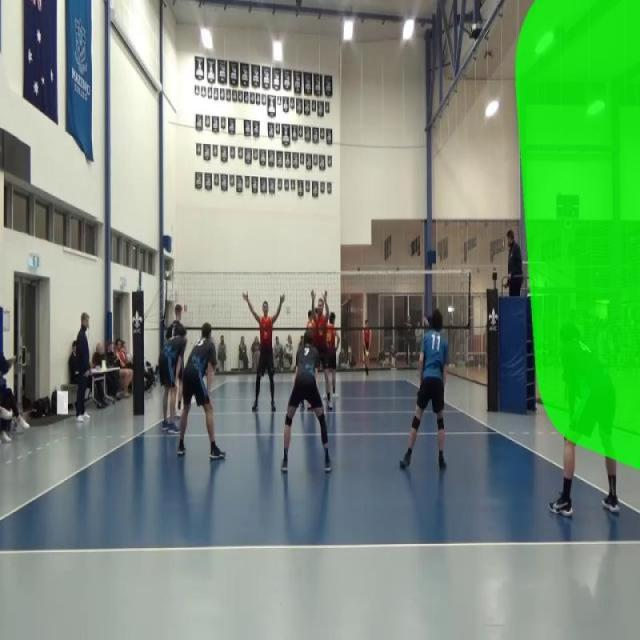volleyball: (365, 350, 369, 358)
